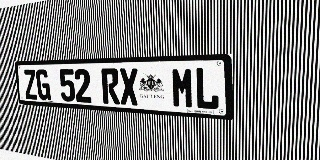2: (74, 69, 91, 103)
5: (59, 69, 76, 102)
G: (35, 69, 51, 100)
L: (195, 67, 219, 110)
M: (171, 67, 194, 109)
R: (101, 68, 120, 104)
X: (119, 68, 139, 106)
Z: (23, 69, 38, 100)
